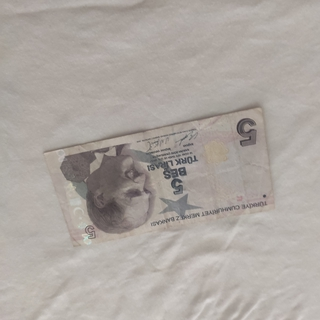5TLFront: (42, 106, 275, 246)
